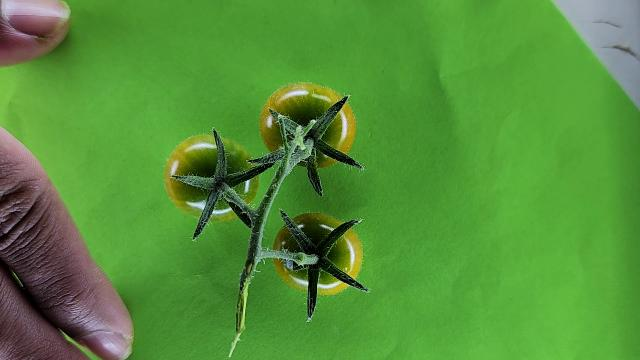Fully Grown: (259, 82, 356, 171), (163, 134, 260, 221), (272, 212, 364, 295)
